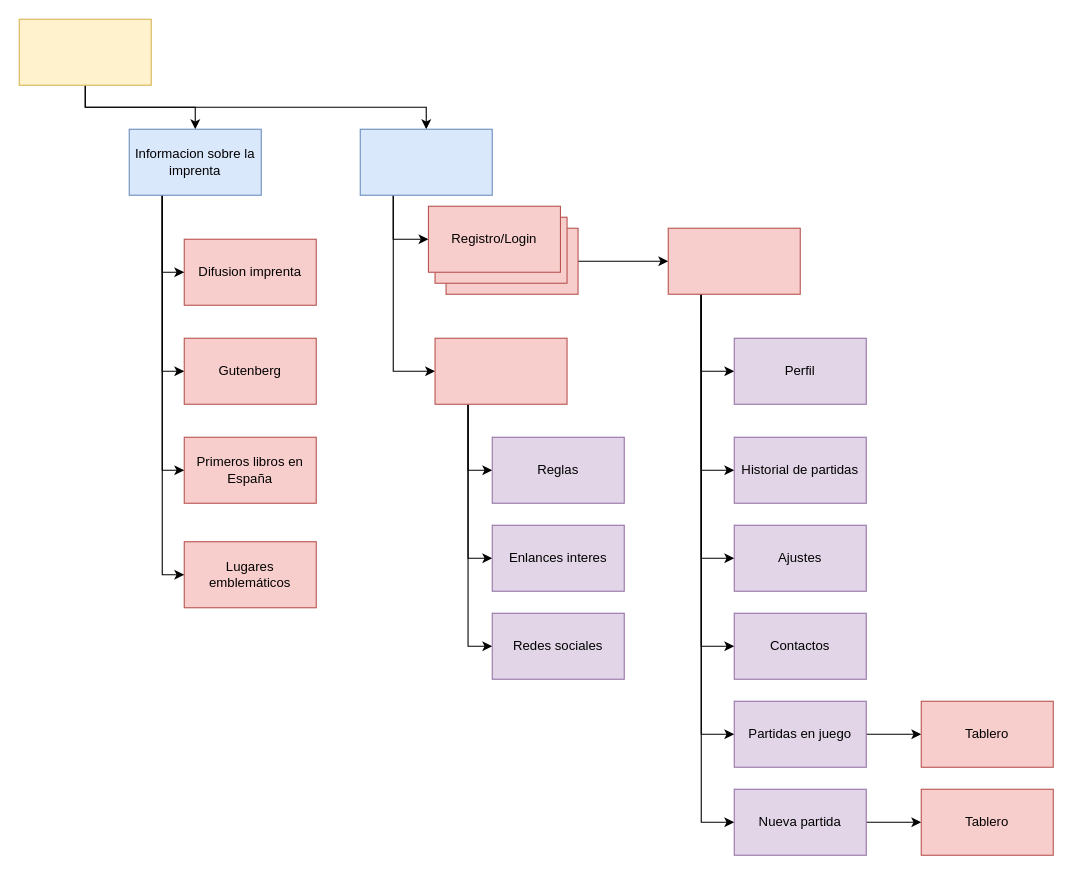
This 1073x875 diagram has some shape labels left out. Here are the shapes that lost their labels. From the top down, the centre of each, then its label:
(84,51): HOME
(425,161): Área Scrabble
(733,260): Dashboard
(500,370): Info general
